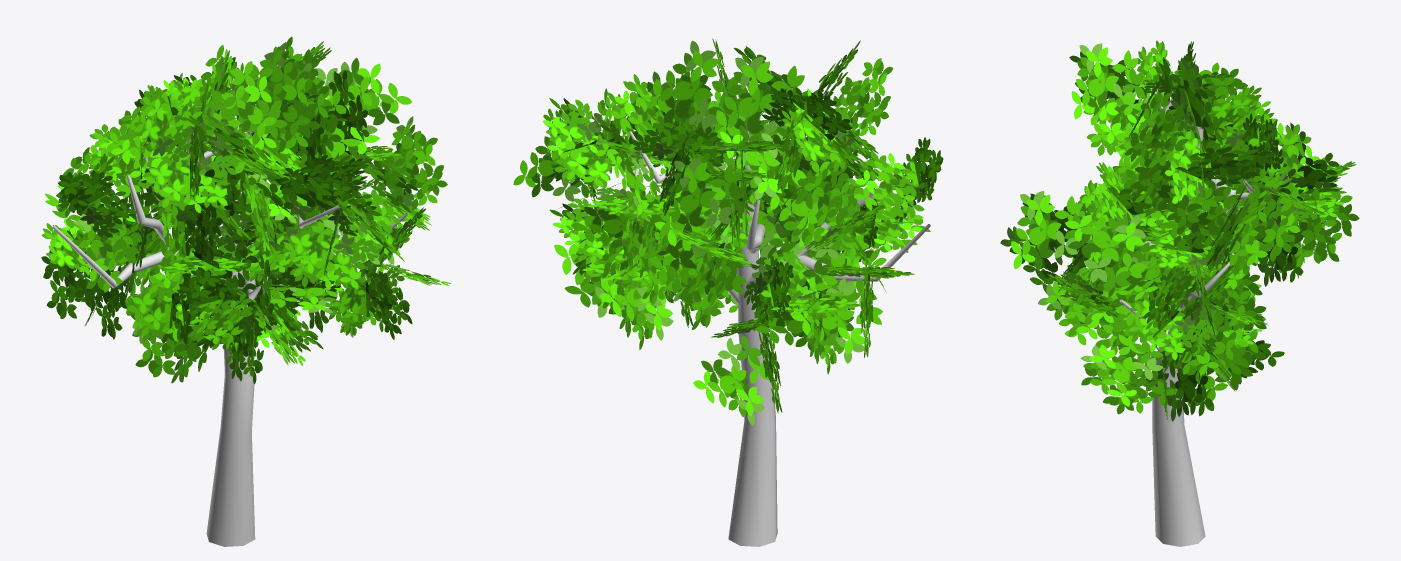
Rendered from Tree2.fbx.
3 views of the same model, side by side, from view 1: azimuth 30°, elevation 25°; view 2: azimuth 150°, elevation 25°; view 3: azimuth 270°, elevation 25° (orthographic).
Visible parts, largest first — view 1: Tree2; view 2: Tree2; view 3: Tree2.
Part boxes in pixels (box(x1,y1,x2,y2)): Tree2: box(41, 36, 451, 546); Tree2: box(513, 38, 943, 546); Tree2: box(1000, 40, 1359, 546).
Size of the model in its own units: 691 by 758 by 562.
